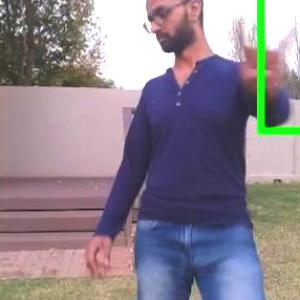takeoff-hand: (221, 9, 300, 107)
